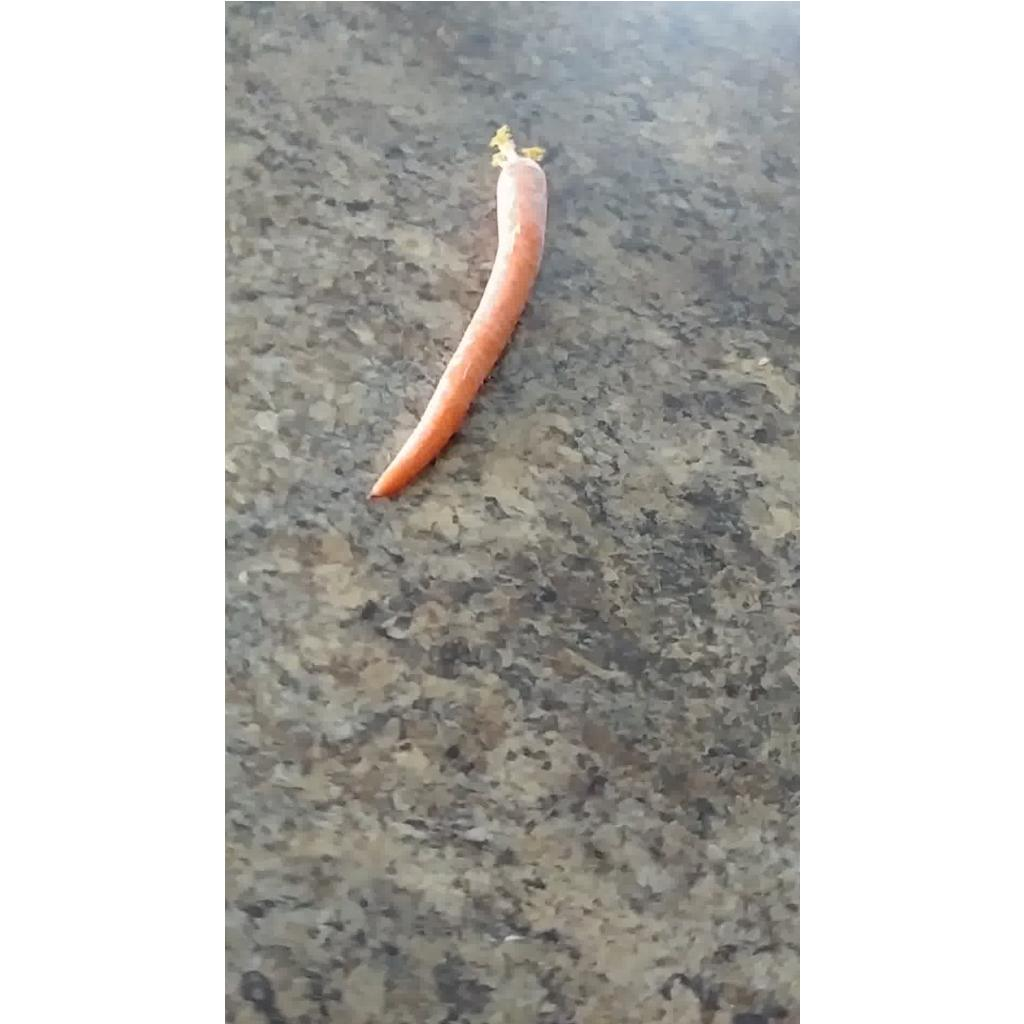carrot: (370, 126, 546, 498)
